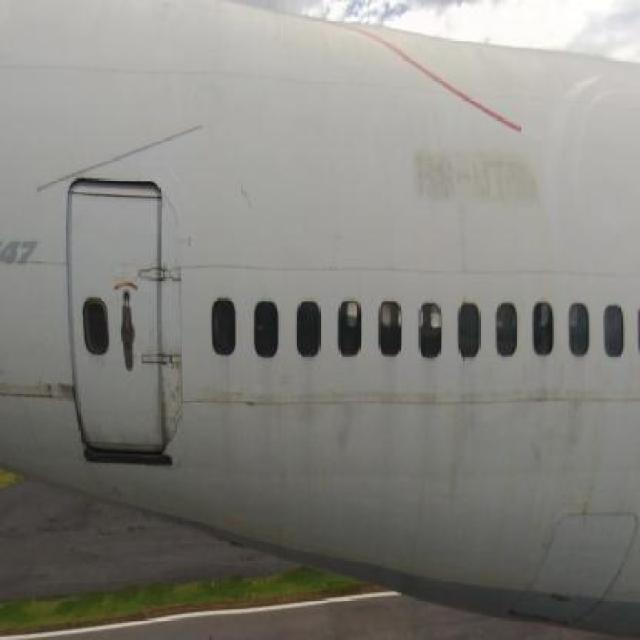Scartch: (530, 380, 588, 494), (439, 397, 484, 494), (312, 391, 365, 464), (157, 372, 198, 452), (46, 378, 79, 408)
